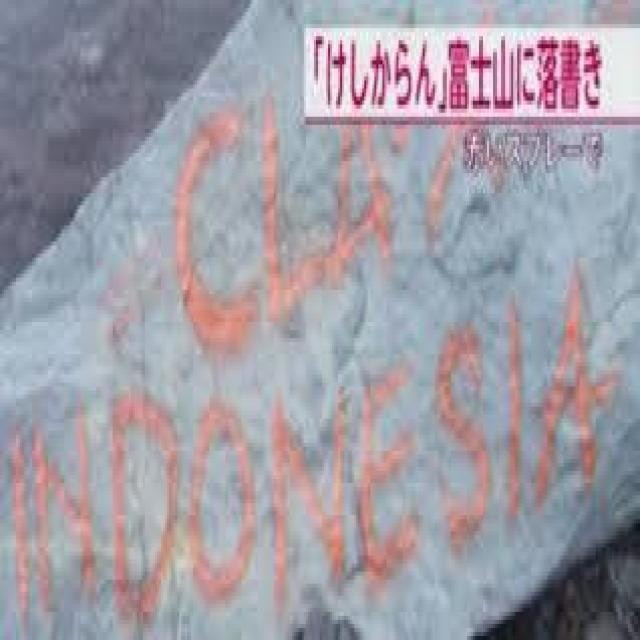nonspitting: (12, 270, 619, 620), (175, 100, 502, 362)
